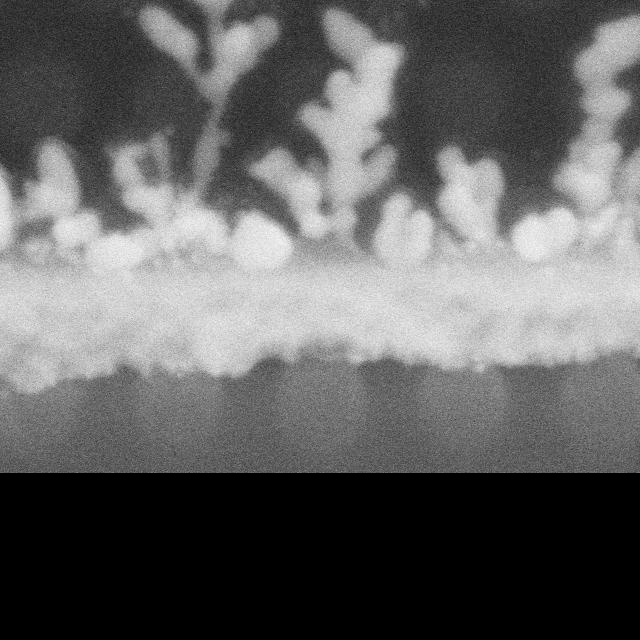Dendrite: (0, 0, 640, 403), (0, 242, 640, 434), (0, 0, 280, 271)
